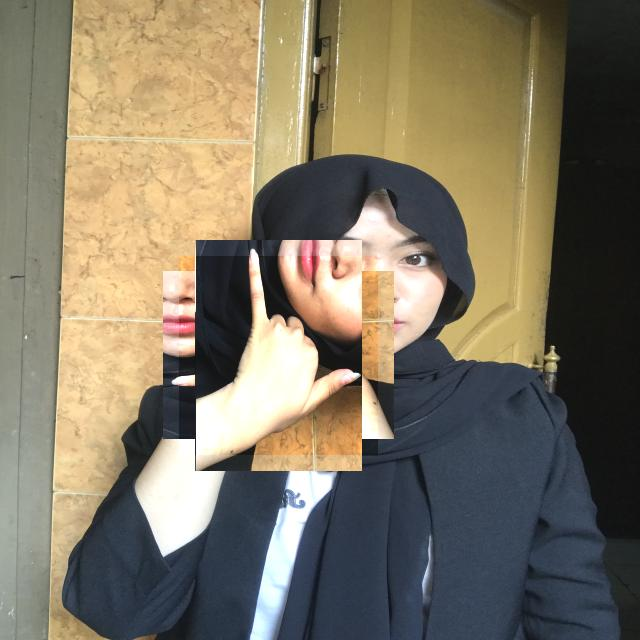telpon: (179, 256, 378, 455)
